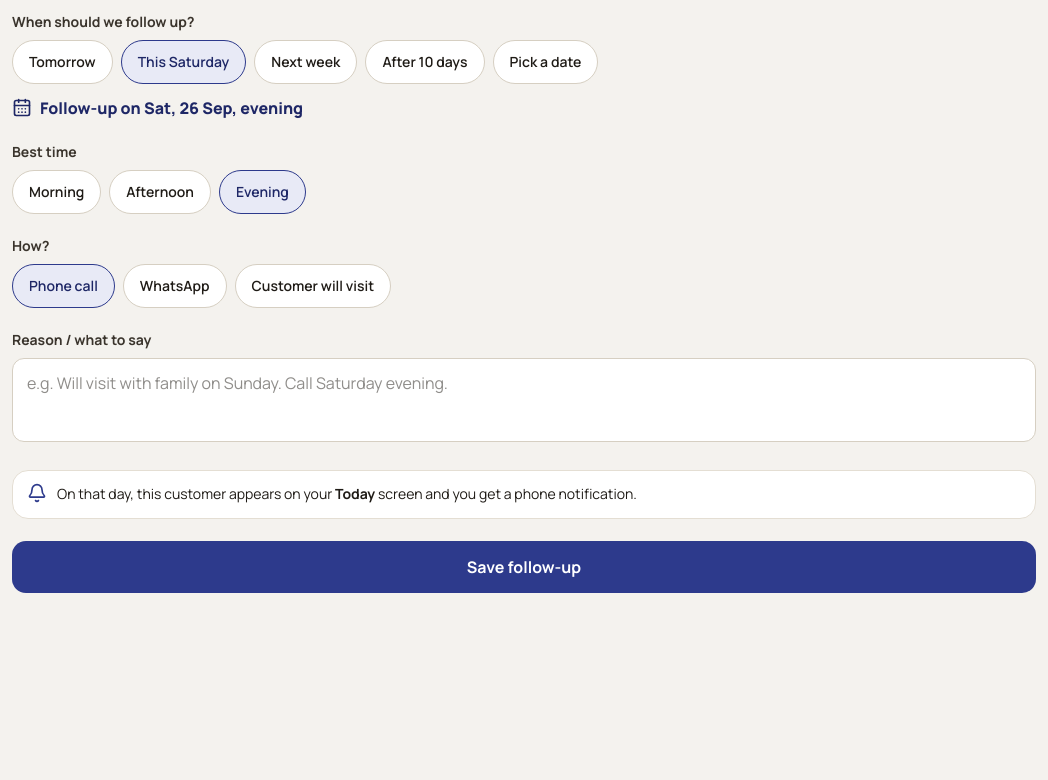
Test: FollowUpForm › shows the server's message against the date
Click the button "Save follow-up": (524, 567) [12,541,1036,593]
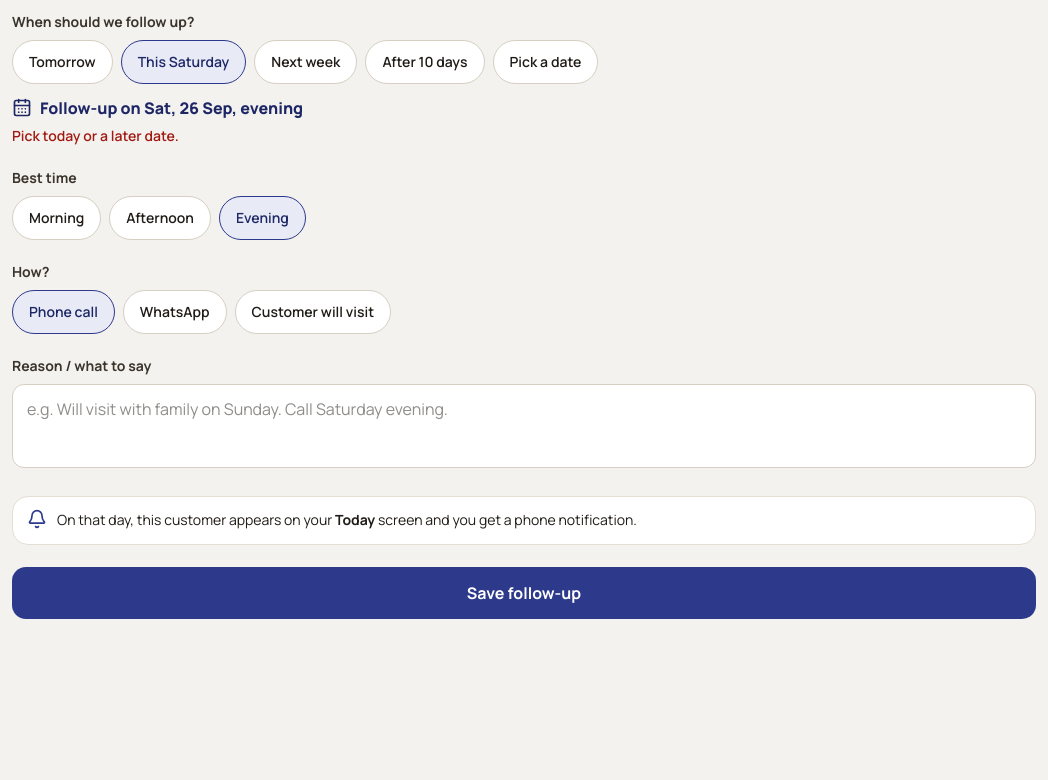
expect the text "Pick today or a later date." is shown: met, box [12,126,179,145]
